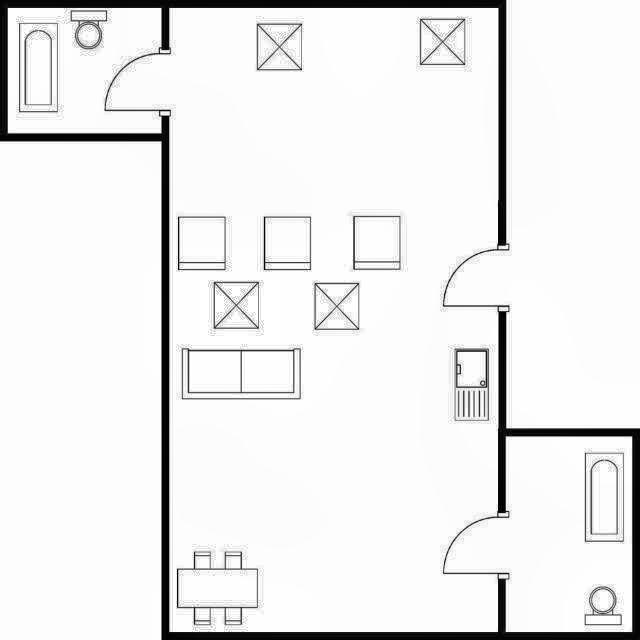room: (169, 8, 498, 632), (506, 436, 632, 632), (8, 8, 161, 133)
